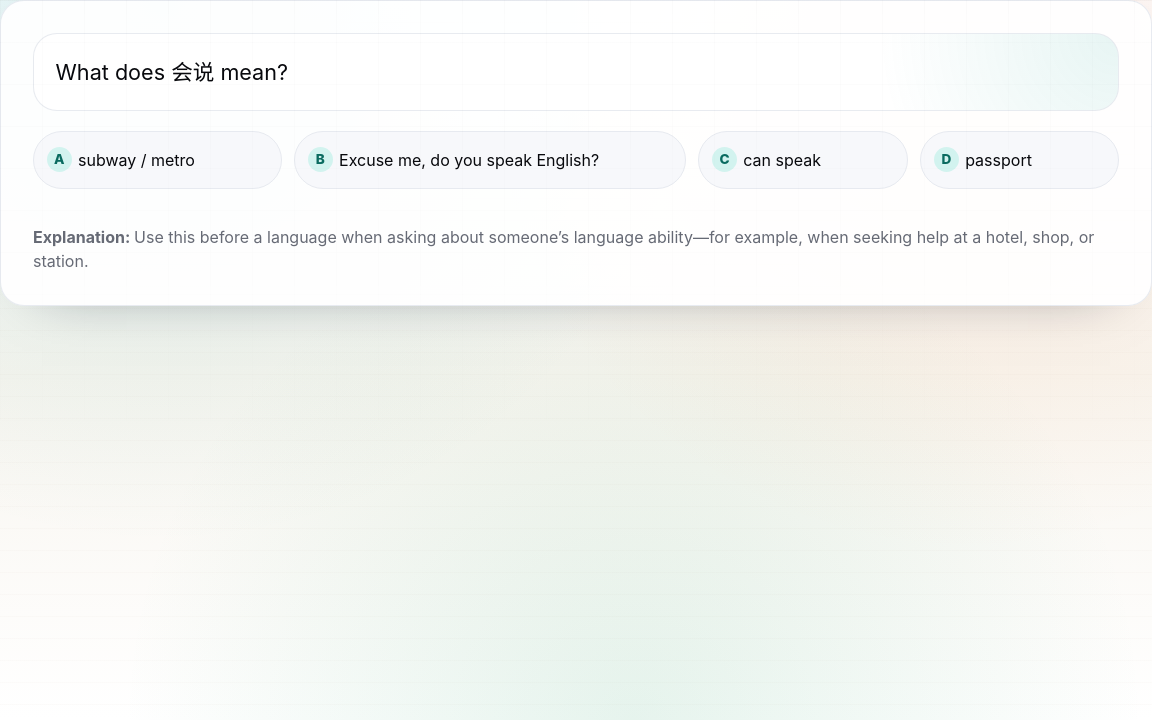
Test case: PracticeChallenge › shows only the Correct! feedback without a point bonus on a correct answer
Click the button "C can speak".
click(803, 160)  # box [699, 132, 907, 188]
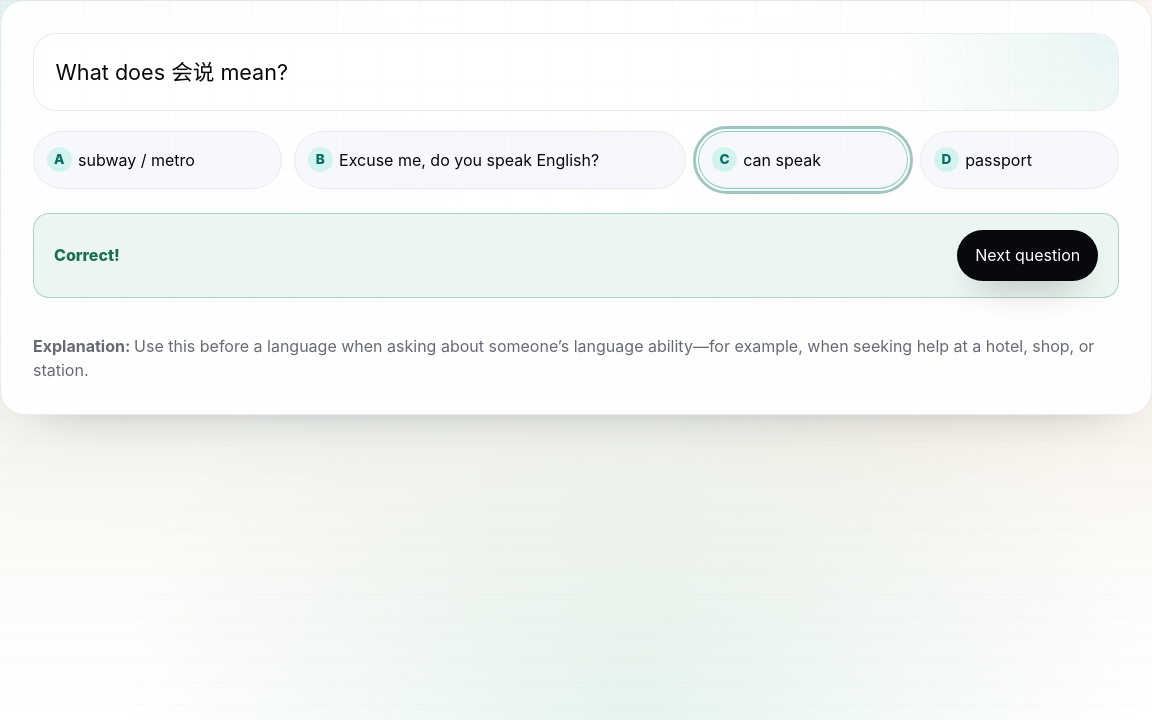
Check: the text "Correct!" is shown, box [54, 243, 120, 267]
